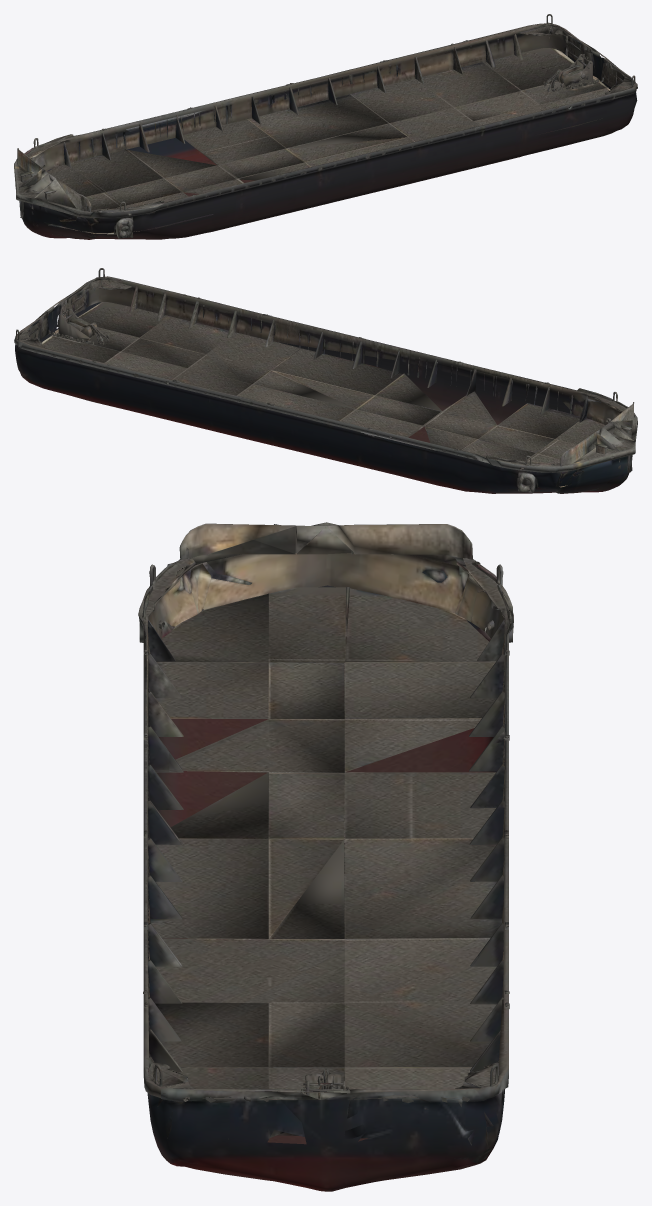
Rendered from barge.glb.
3 views of the same model, one above another, from view 1: azimuth 30°, elevation 25°; view 2: azimuth 150°, elevation 25°; view 3: azimuth 270°, elevation 25° (orthographic). The views are drawn at different scales.
Bounding box in the file's own units: 0.9536 × 0.1113 × 0.2657.
Materials: 1 (1 with a texture image).
